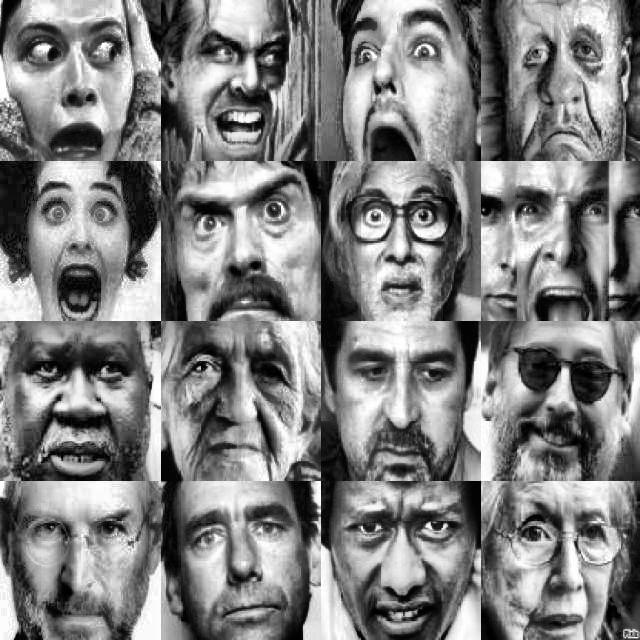angry: (184, 182, 313, 311), (188, 22, 300, 146), (520, 189, 608, 289)
fear: (347, 17, 479, 153), (8, 24, 137, 153), (343, 185, 463, 307), (30, 177, 138, 309)
happy: (22, 497, 139, 629), (509, 342, 618, 466)
neutral: (510, 499, 616, 630)
sad: (178, 333, 306, 464), (21, 346, 144, 470), (192, 502, 309, 631), (355, 336, 467, 462), (517, 27, 621, 158), (360, 499, 468, 625)
